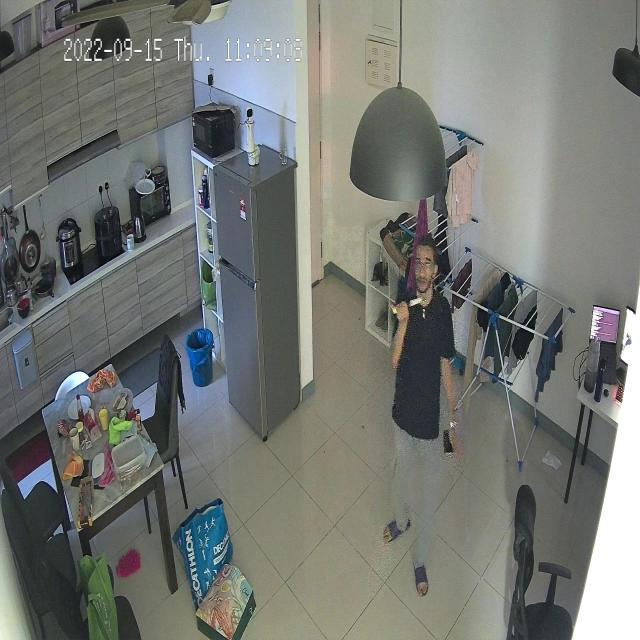Knife: (379, 283, 437, 324)
